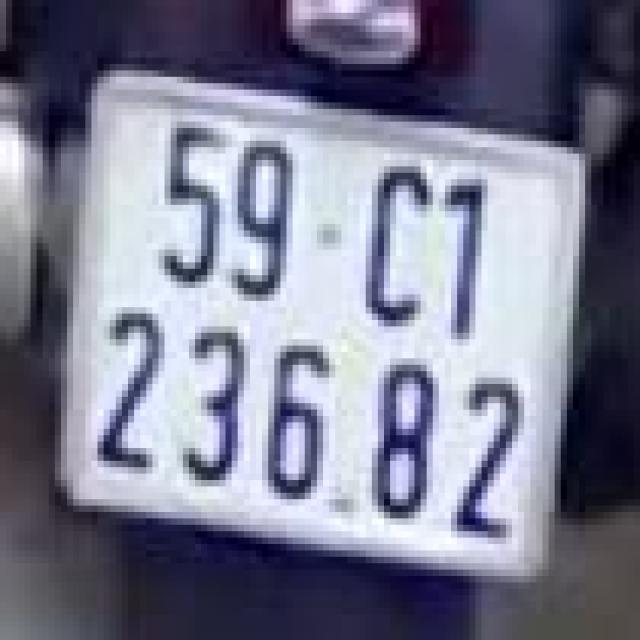1: (426, 157, 494, 342)
2: (445, 362, 536, 554), (82, 291, 168, 483)
3: (186, 304, 259, 496)
5: (152, 90, 225, 288)
6: (268, 314, 342, 499)
8: (363, 336, 454, 534)
9: (219, 119, 305, 324)
C: (356, 141, 429, 333)
